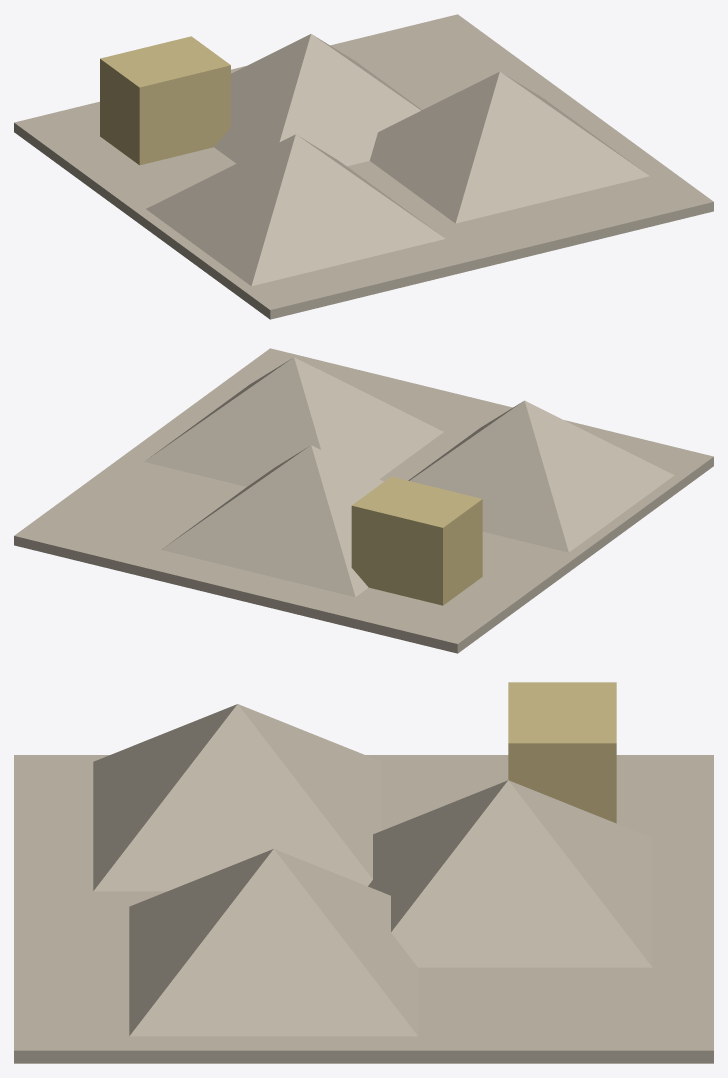
The model's file is sand_pit_2x2.glb.
3 views of the same model, one above another, from view 1: azimuth 30°, elevation 25°; view 2: azimuth 150°, elevation 25°; view 3: azimuth 270°, elevation 25° (orthographic). The views are drawn at different scales.
Visible parts, largest first — view 1: sand_pit_2x2; view 2: sand_pit_2x2; view 3: sand_pit_2x2.
Boxes of the visible parts, x1,y1,x2,y2 form: sand_pit_2x2: (14, 14, 713, 319); sand_pit_2x2: (14, 348, 713, 653); sand_pit_2x2: (14, 682, 713, 1063).
Bounding box in the file's own units: 3.88 × 0.83 × 3.88.
